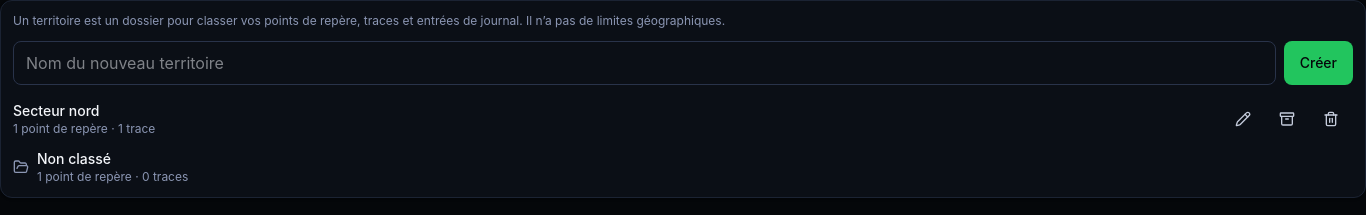
Test: TerritoryManager › renames a territory
The image size is (1366, 215).
Click the button named "Renommer Secteur nord": (1243, 119) [1221,97,1265,141]
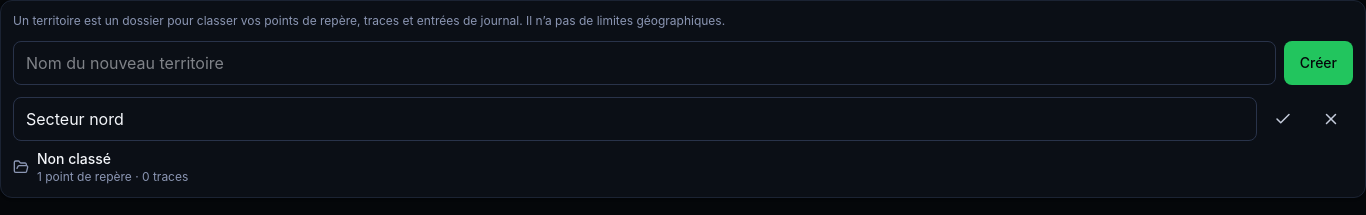
Replace the text in the field named "Nouveau nom de Secteur nord" with "Secteur est": (635, 119) [13,97,1257,141]
Then press Enter
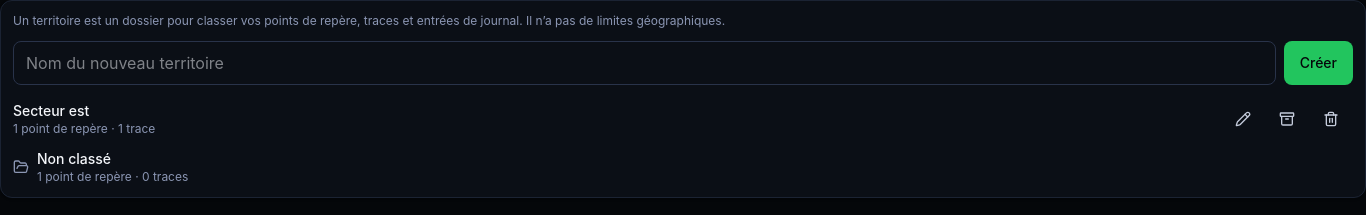
expect the text "Secteur est" is shown: met, box [13,102,89,119]
